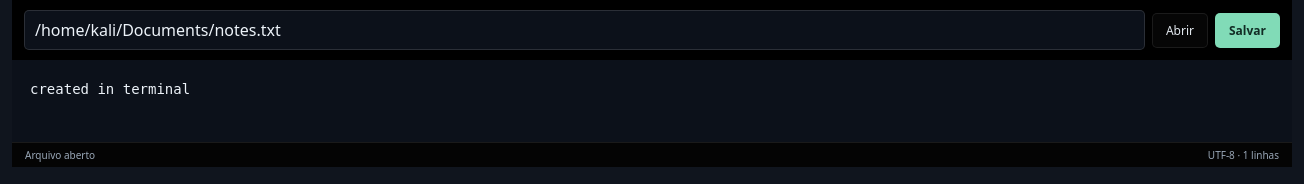
Test: shared file editor › opens virtual content and supplies its original version when saving
Step 1. Replace the text in the text box named "Conteúdo do arquivo" with "edited in GUI" → (652,101), box [12, 60, 1292, 142]
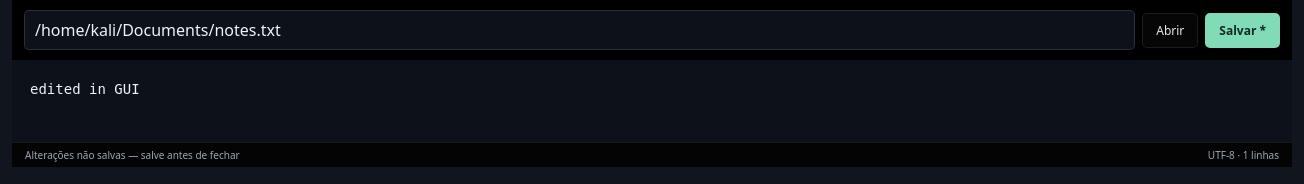
Step 2. Click the button "Salvar *" → (1243,30), box [1205, 12, 1280, 48]
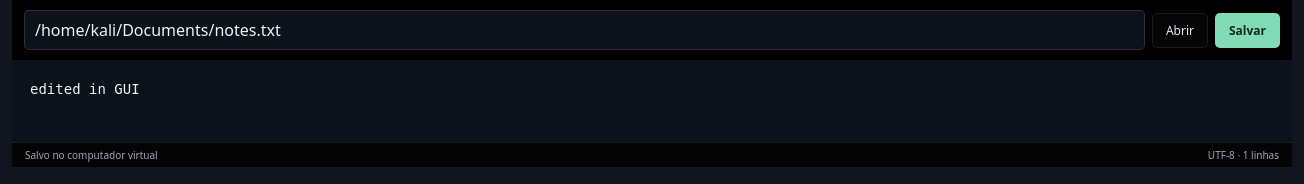
Expected: the text "Salvo no computador virtual" is shown, [25, 148, 158, 162]
